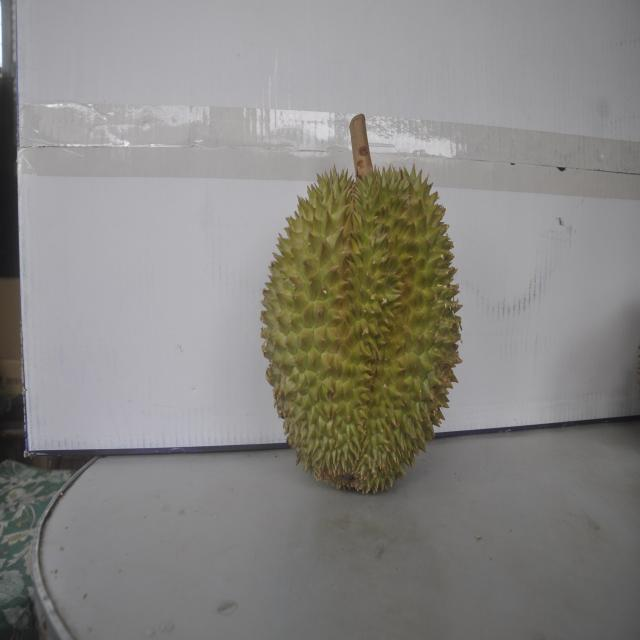mature: (262, 134, 454, 493)
